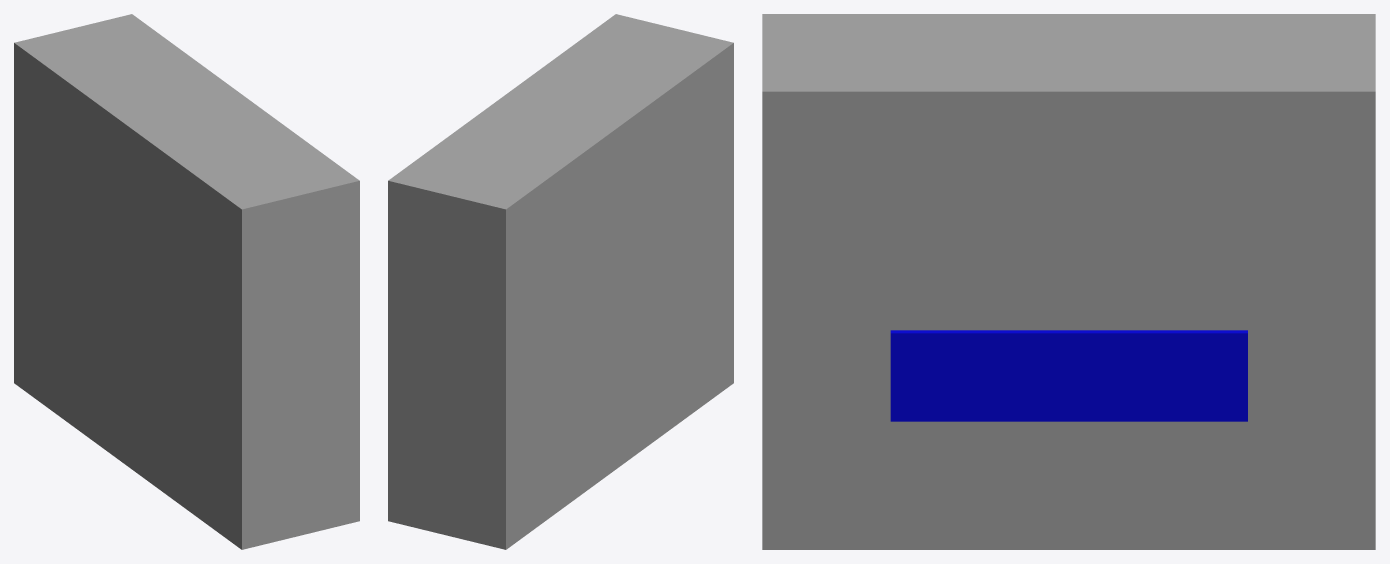
File: CorteoOffice.fbx
3 views of the same model, side by side, from view 1: azimuth 30°, elevation 25°; view 2: azimuth 150°, elevation 25°; view 3: azimuth 270°, elevation 25° (orthographic). The views are drawn at different scales.
Parts seen in each view (by area): view 1: pCube5; view 2: pCube5; view 3: pCube5.
Boxes of the visible parts, x1=… form: pCube5: x1=14, y1=14, x2=359, y2=549; pCube5: x1=388, y1=14, x2=733, y2=549; pCube5: x1=762, y1=14, x2=1375, y2=549.
Bounding box in the file's own units: 30.14 × 80 × 97.
